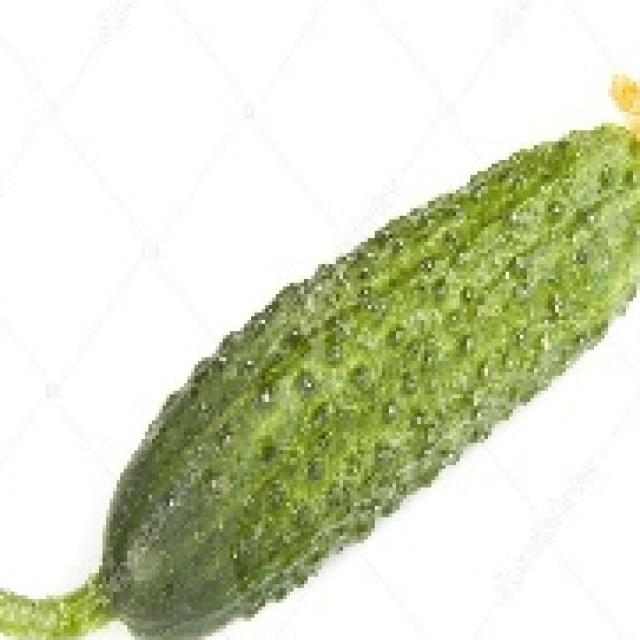cucumber: (95, 111, 639, 640)
